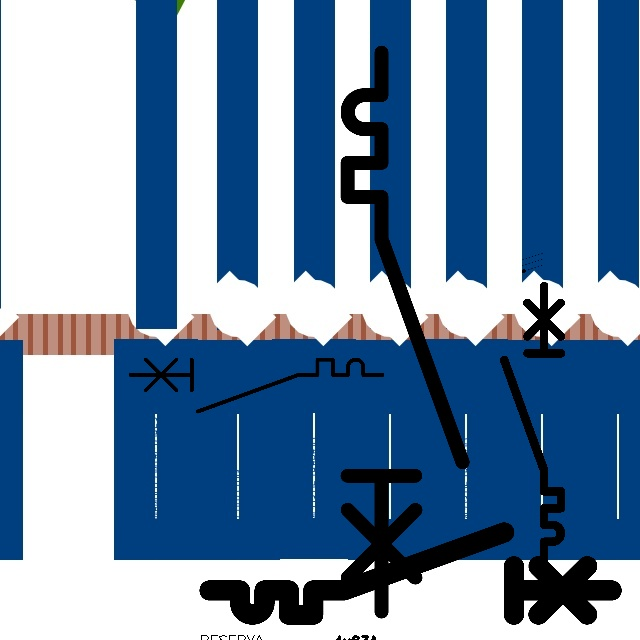interruptor_termomagnetico: (333, 38, 477, 626), (199, 522, 622, 625), (497, 278, 568, 569), (124, 353, 389, 418)
